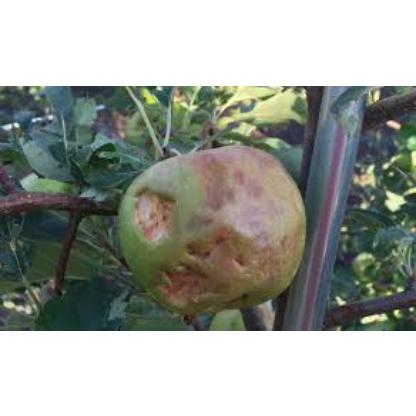damaged_apple: (118, 145, 302, 314)
